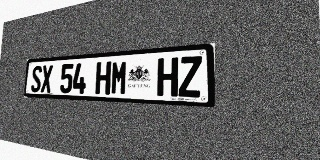4: (72, 63, 87, 94)
5: (60, 64, 74, 93)
H: (157, 57, 178, 97), (95, 61, 111, 95)
M: (110, 60, 128, 95)
S: (31, 66, 42, 92)
X: (41, 65, 53, 93)
Z: (178, 56, 202, 98)
